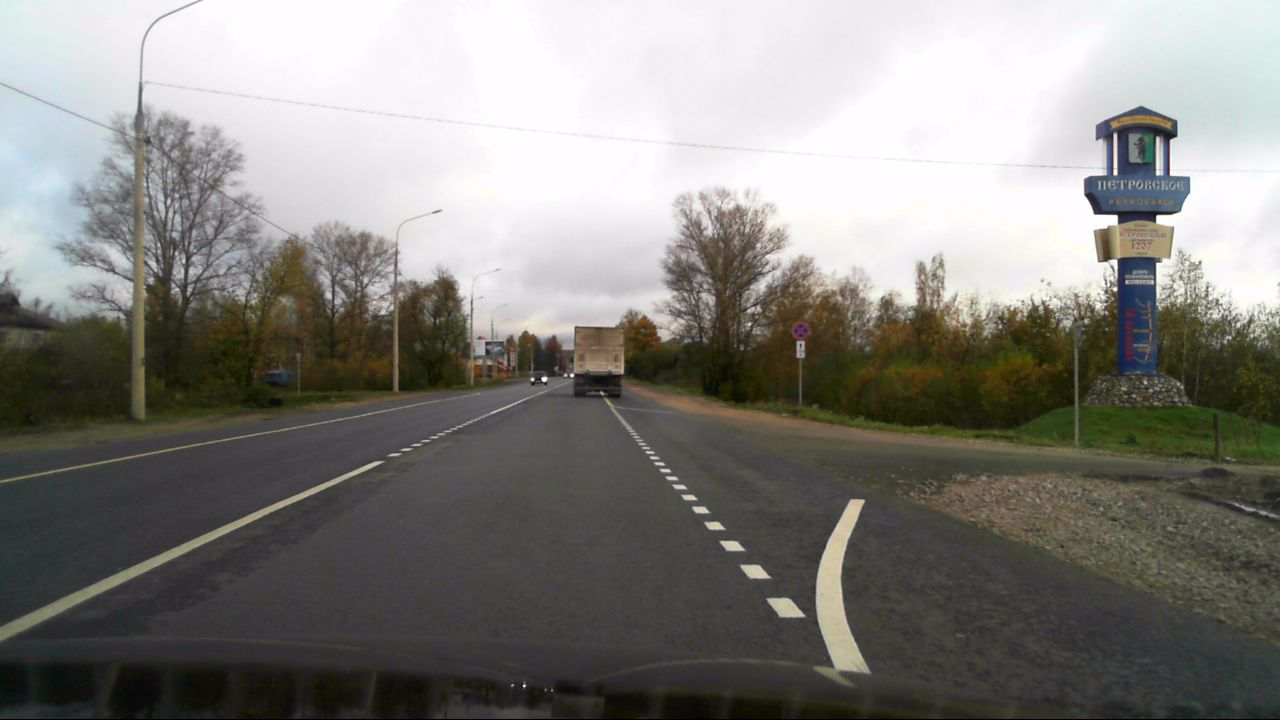No Parking: (791, 321, 810, 340)
